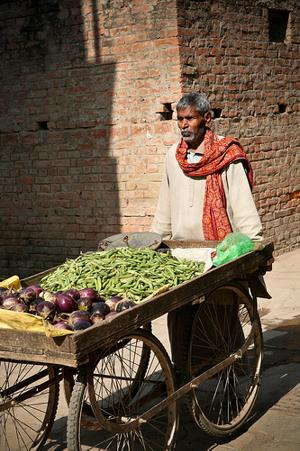person: (150, 92, 265, 399)
